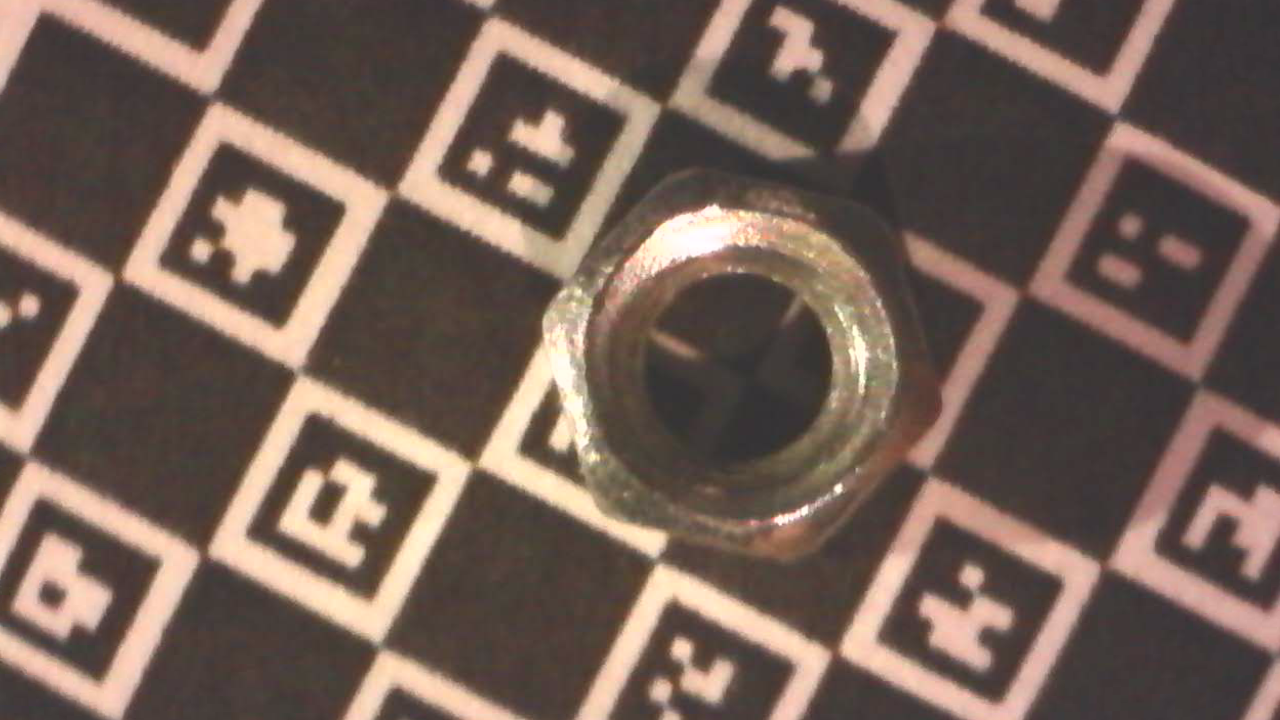Bolt: (536, 166, 949, 569)
